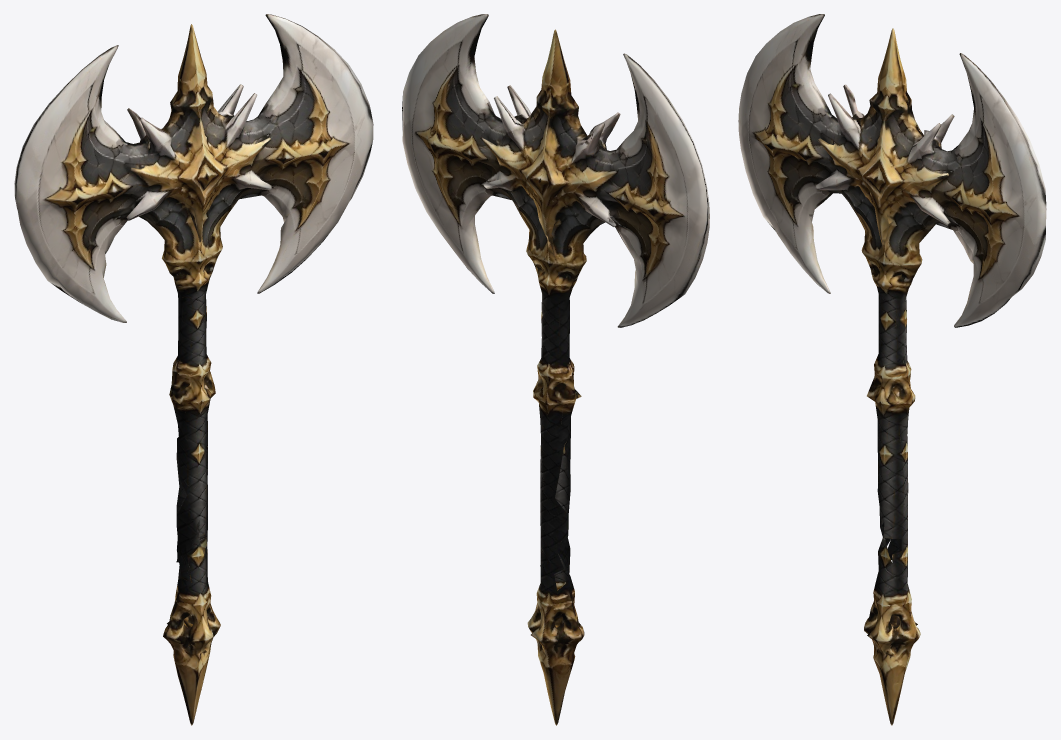
3 views of the same model, side by side, from view 1: azimuth 30°, elevation 25°; view 2: azimuth 150°, elevation 25°; view 3: azimuth 330°, elevation 25° (orthographic).
Parts seen in each view (by area): view 1: tripo_node_92fad86d-9523-4f71-9e3e-a3e61c60f919; view 2: tripo_node_92fad86d-9523-4f71-9e3e-a3e61c60f919; view 3: tripo_node_92fad86d-9523-4f71-9e3e-a3e61c60f919.
Part boxes in pixels (x1=…): tripo_node_92fad86d-9523-4f71-9e3e-a3e61c60f919: x1=14, y1=14, x2=373, y2=725; tripo_node_92fad86d-9523-4f71-9e3e-a3e61c60f919: x1=402, y1=14, x2=709, y2=725; tripo_node_92fad86d-9523-4f71-9e3e-a3e61c60f919: x1=738, y1=14, x2=1046, y2=725.
Size of the model in its own units: 0.4893 by 0.9844 by 0.0899.
Materials: 1 (1 with a texture image).
